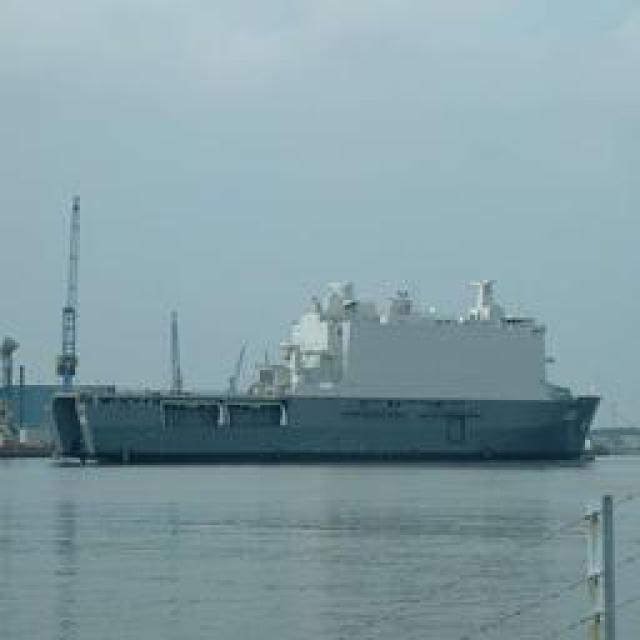Ship: (55, 267, 618, 467)
